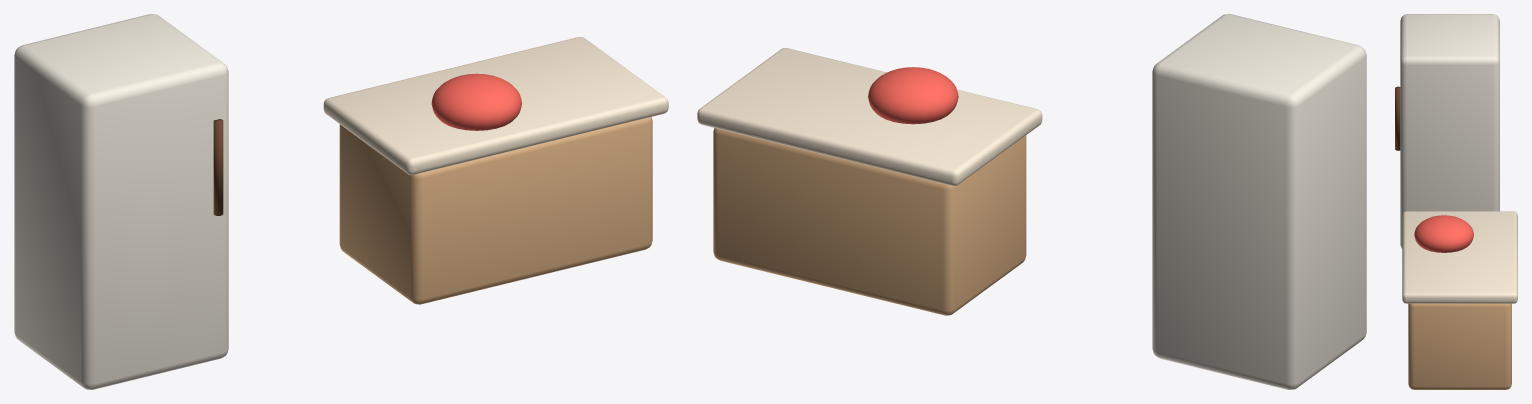
Rendered from room-cozinha.glb.
3 views of the same model, side by side, from view 1: azimuth 30°, elevation 25°; view 2: azimuth 150°, elevation 25°; view 3: azimuth 270°, elevation 25° (orthographic). The views are drawn at different scales.
Parts seen in each view (by area): view 1: RoomCozinha; view 2: RoomCozinha; view 3: RoomCozinha.
Boxes of the visible parts, left/top/right/bottom form: RoomCozinha: left=14, top=14, right=668, bottom=389; RoomCozinha: left=697, top=14, right=1366, bottom=389; RoomCozinha: left=1395, top=14, right=1517, bottom=389.
Bounding box in the file's own units: 2.24 × 1.08 × 0.616.
